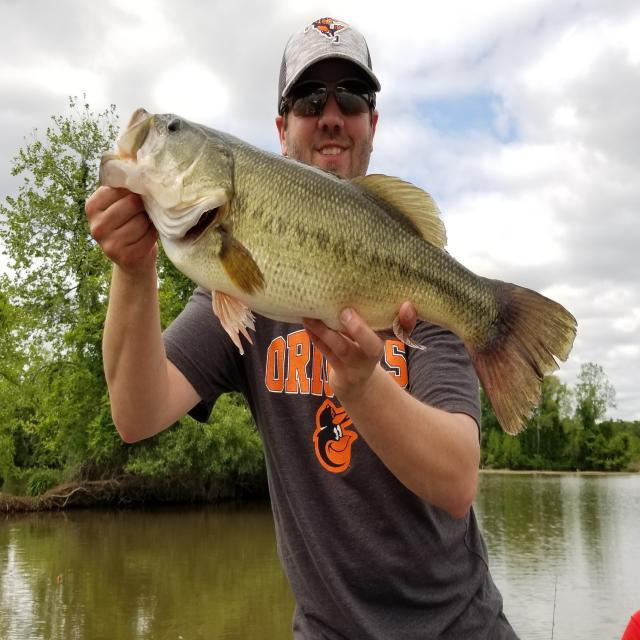Bass - Largemouth: (100, 109, 576, 434)
